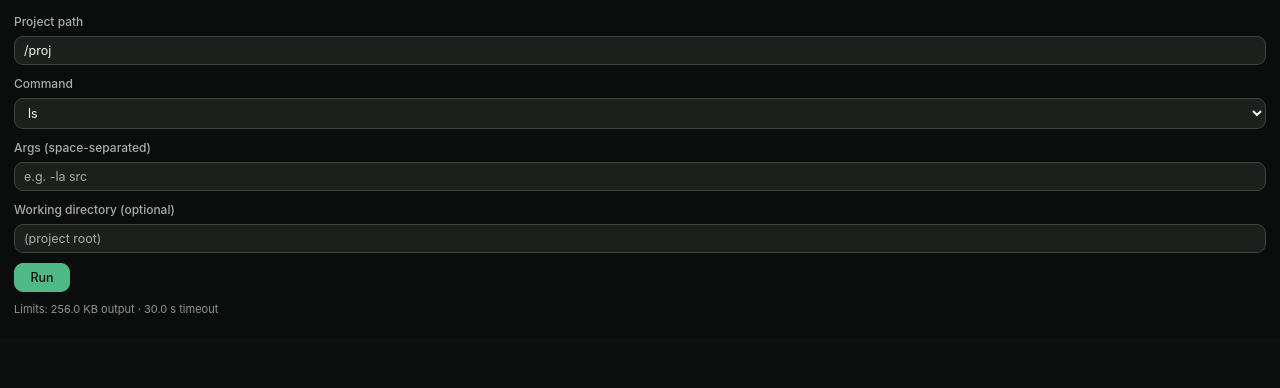
TerminalWidget › B3 — error alert is dismissible via the Dismiss button
Expected: the dropdown labelled "Command" is shown, [14,98,1266,129]
Click the button "Run": (42, 278) [14,263,70,292]
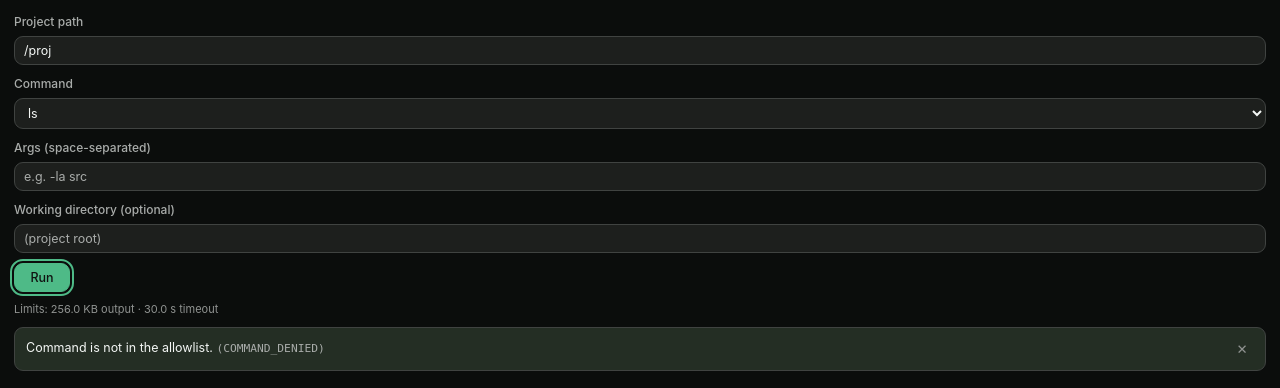
Now the message "Command is not in the allowlist. (COMMAND_DENIED) ✕" is shown, box [14,327,1266,371]
Click the button named "dismiss error": (1242, 349) [1230,337,1254,361]
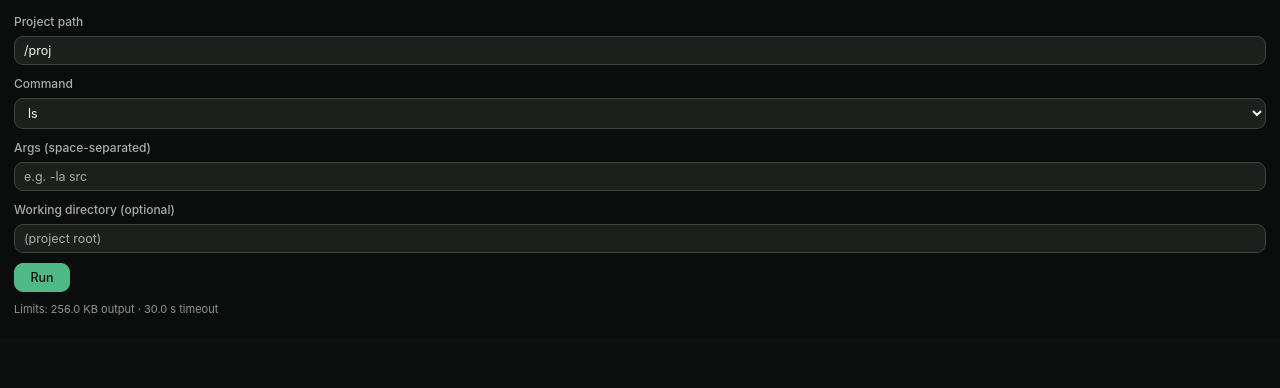
Now the message "Command is not in the allowlist. (COMMAND_DENIED) ✕" is gone
